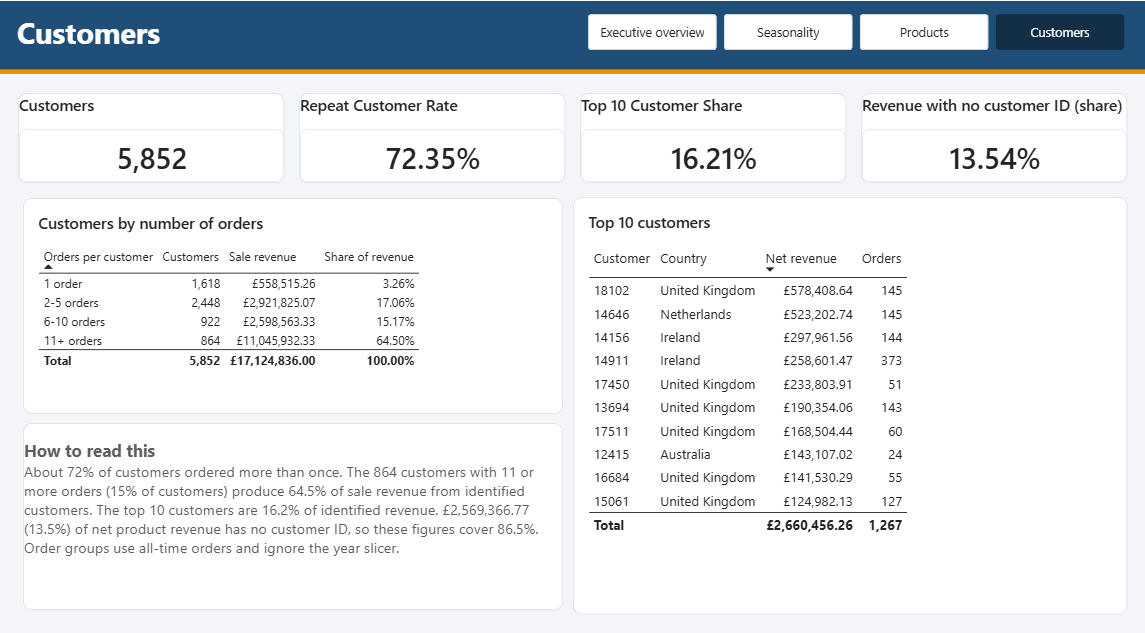

The dashboard page shown, as its layout file describes it:
{"tool":"powerbi","page":{"name":"Customers","canvas":[1920,1080],"ordinal":3},"visuals":[{"type":"tableEx","title":"Customers by number of orders","fields":{"Values":["dim_customer.Order Bucket","_Measures.Customers with Orders","_Measures.Gross Sales","_Measures.Gross Sales % of identified"]},"box":[347.5,396.2,600,240],"z":0},{"type":"tableEx","title":"Top 10 customers","fields":{"Values":["dim_customer.customer_id","dim_customer.standard_country","_Measures.Net Revenue (identified customers)","_Measures.Orders"]},"box":[958.8,396,616,464],"z":1000},{"type":"textbox","box":[347.8,647,600,208],"z":3000},{"type":"textbox","box":[341,190,600,48],"z":4000},{"type":"pageNavigator","box":[976,192,596,40],"z":5000},{"type":"cardVisual","title":"Customers","fields":{"Data":["_Measures.Customers with Orders (card)"]},"box":[342.8,280,296,100],"z":6000},{"type":"cardVisual","title":"Repeat Customer Rate","fields":{"Data":["_Measures.Repeat Customer Rate"]},"box":[654.8,280,296,100],"z":7000},{"type":"cardVisual","title":"Top 10 Customer Share","fields":{"Data":["_Measures.Top 10 Customer Share"]},"box":[966.8,280,296,100],"z":8000},{"type":"cardVisual","title":"Revenue with no customer ID (share)","fields":{"Data":["_Measures.Unidentified Share"]},"box":[1278.8,280,296,100],"z":9000}]}

Visuals, with their boxes in screenshot pixels (x1, y1, x2, y2), scaled from the page's 1920x1080 canvas onto the 1145x633 screenshot:
"Customers by number of orders" tableEx: 207, 232, 565, 373
"Top 10 customers" tableEx: 572, 232, 939, 504
textbox: 207, 379, 565, 501
textbox: 203, 111, 561, 139
pageNavigator: 582, 113, 937, 136
"Customers" cardVisual: 204, 164, 381, 223
"Repeat Customer Rate" cardVisual: 390, 164, 567, 223
"Top 10 Customer Share" cardVisual: 577, 164, 753, 223
"Revenue with no customer ID (share)" cardVisual: 763, 164, 939, 223
